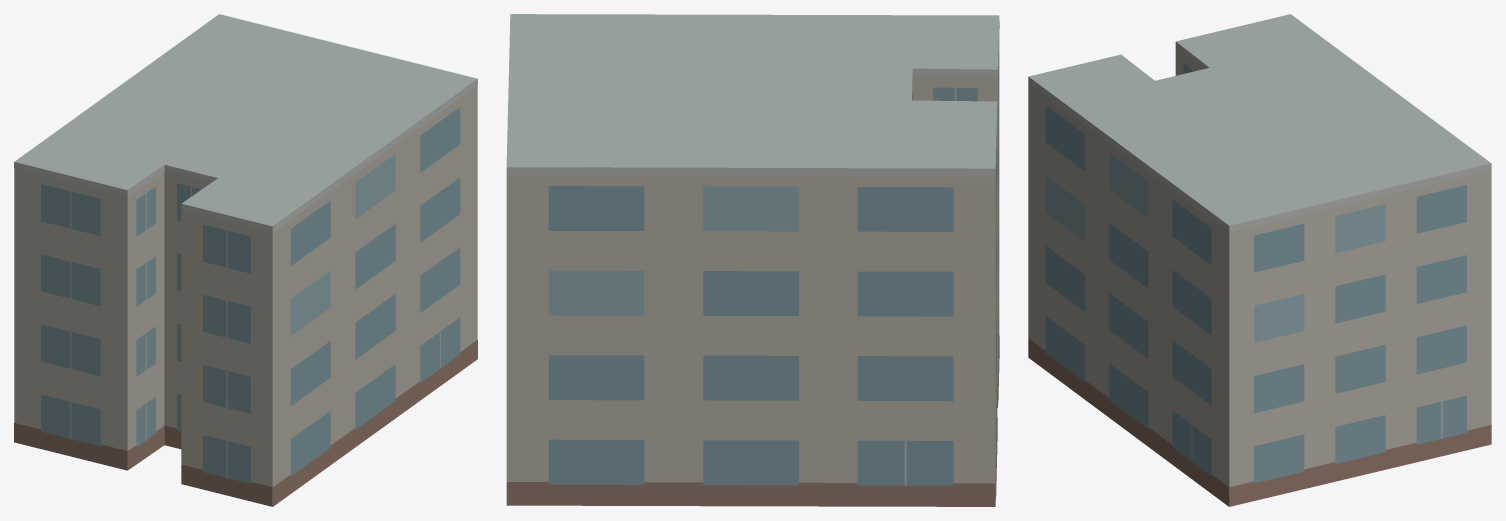
File: survey-upis-32694475.glb
The picture shows the model from 3 angles, left to right: view 1: azimuth 30°, elevation 25°; view 2: azimuth 150°, elevation 25°; view 3: azimuth 270°, elevation 25°; orthographic projection. The views are drawn at different scales.
Visible parts, largest first — view 1: survey-upis-32694475.tmp; view 2: survey-upis-32694475.tmp; view 3: survey-upis-32694475.tmp.
Part boxes in pixels (x1,y1,x2,y2): survey-upis-32694475.tmp: (14,14,477,506); survey-upis-32694475.tmp: (506,14,999,506); survey-upis-32694475.tmp: (1028,14,1491,506).
Size of the model in its own units: 16.65 by 10.3 by 15.39.
